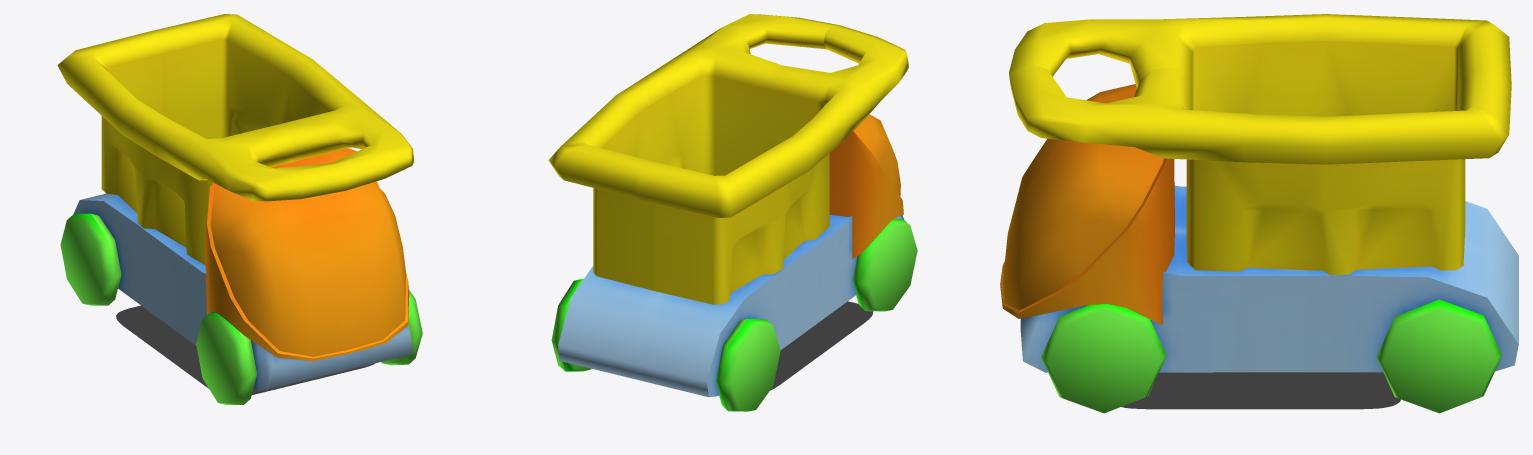
Rendered from toy_car.DAE.
The picture shows the model from 3 angles, left to right: view 1: azimuth 30°, elevation 25°; view 2: azimuth 150°, elevation 25°; view 3: azimuth 270°, elevation 25°; orthographic projection. The views are drawn at different scales.
Visible parts, largest first — view 1: toy_car, sd_toy_car; view 2: toy_car, sd_toy_car; view 3: toy_car, sd_toy_car.
Boxes of the visible parts, x1=… form: toy_car: x1=57, y1=14, x2=422, y2=404; sd_toy_car: x1=116, y1=305, x2=374, y2=394; toy_car: x1=548, y1=14, x2=917, y2=411; sd_toy_car: x1=770, y1=301, x2=873, y2=390; toy_car: x1=1000, y1=14, x2=1518, y2=413; sd_toy_car: x1=1121, y1=372, x2=1400, y2=409.
Bounding box in the file's own units: 203 × 279 × 178.
2 materials, 2 textured.
